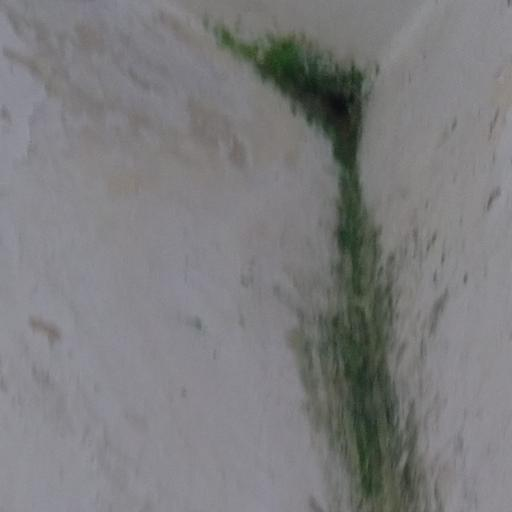algae: (188, 4, 485, 512)
